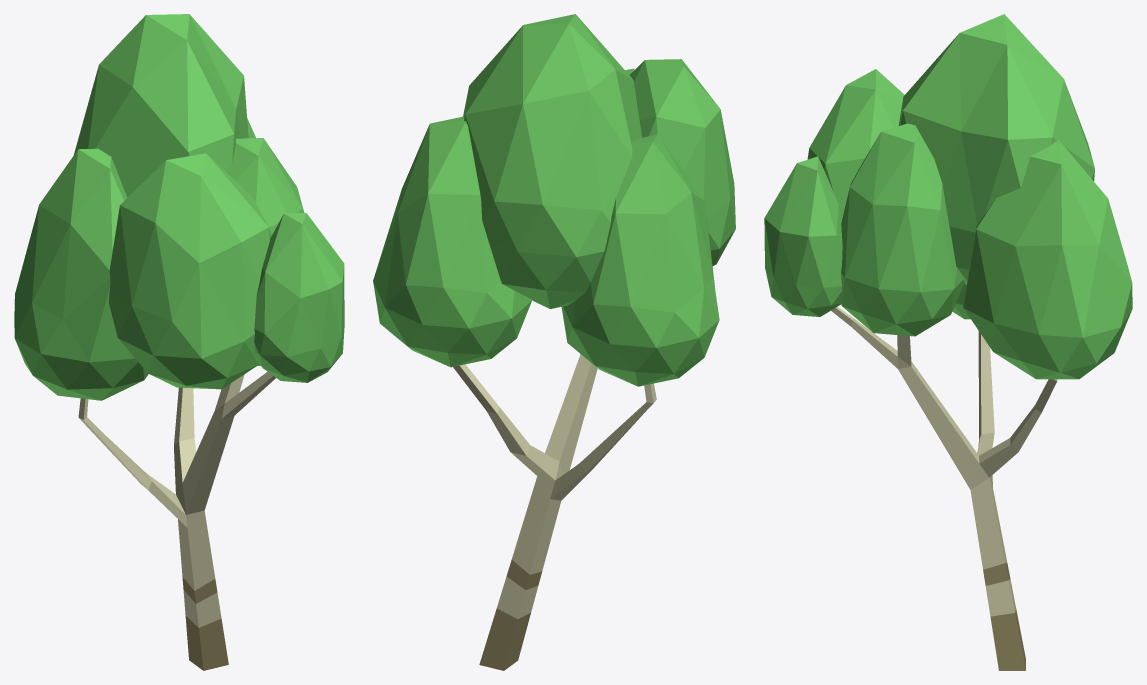
Rendered from Birch01.fbx.
3 views of the same model, side by side, from view 1: azimuth 30°, elevation 25°; view 2: azimuth 150°, elevation 25°; view 3: azimuth 270°, elevation 25° (orthographic). The views are drawn at different scales.
Parts seen in each view (by area): view 1: Icosphere.005, Icosphere.004, Icosphere.003, Cube, Icosphere.001, Icosphere; view 2: Icosphere.003, Icosphere.004, Icosphere.002, Cube, Icosphere.005; view 3: Icosphere.002, Icosphere.003, Icosphere, Cube, Icosphere.001, Icosphere.005.
Boxes of the visible parts, bbox=[...] form: Icosphere.005: bbox=[109, 153, 271, 389]; Icosphere.004: bbox=[14, 148, 148, 400]; Icosphere.003: bbox=[74, 14, 248, 197]; Cube: bbox=[78, 372, 275, 670]; Icosphere.001: bbox=[254, 213, 344, 382]; Icosphere: bbox=[227, 138, 304, 365]; Icosphere.003: bbox=[463, 14, 641, 308]; Icosphere.004: bbox=[561, 134, 719, 386]; Icosphere.002: bbox=[373, 116, 531, 367]; Cube: bbox=[453, 354, 656, 670]; Icosphere.005: bbox=[629, 59, 735, 265]; Icosphere.002: bbox=[963, 140, 1132, 379]; Icosphere.003: bbox=[898, 14, 1094, 284]; Icosphere: bbox=[840, 123, 964, 336]; Cube: bbox=[831, 306, 1057, 670]; Icosphere.001: bbox=[764, 156, 842, 316]; Icosphere.005: bbox=[807, 69, 904, 219].
Size of the model in its own units: 342 by 751 by 404.
